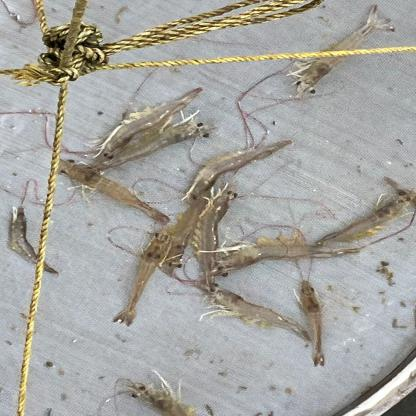shrimp: (295, 4, 397, 102), (98, 87, 203, 161), (56, 157, 170, 224), (186, 140, 295, 204), (82, 122, 216, 172), (203, 284, 314, 343), (312, 189, 416, 247), (112, 230, 170, 328), (211, 241, 362, 278), (194, 186, 239, 292), (159, 195, 209, 276), (9, 207, 61, 276), (299, 279, 327, 368), (129, 382, 196, 416)
